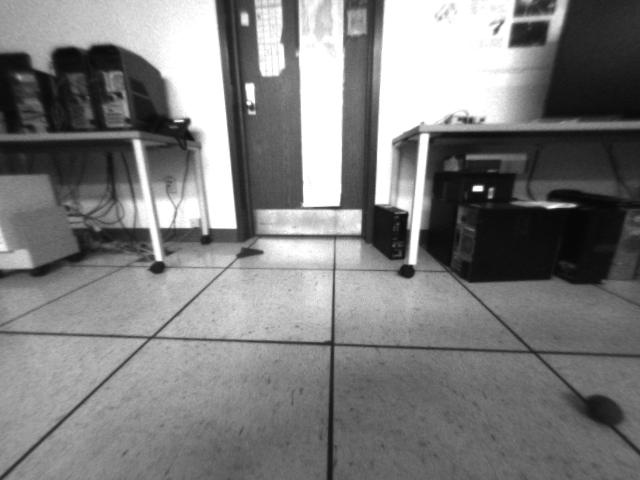dogtoy: (576, 381, 632, 439)
